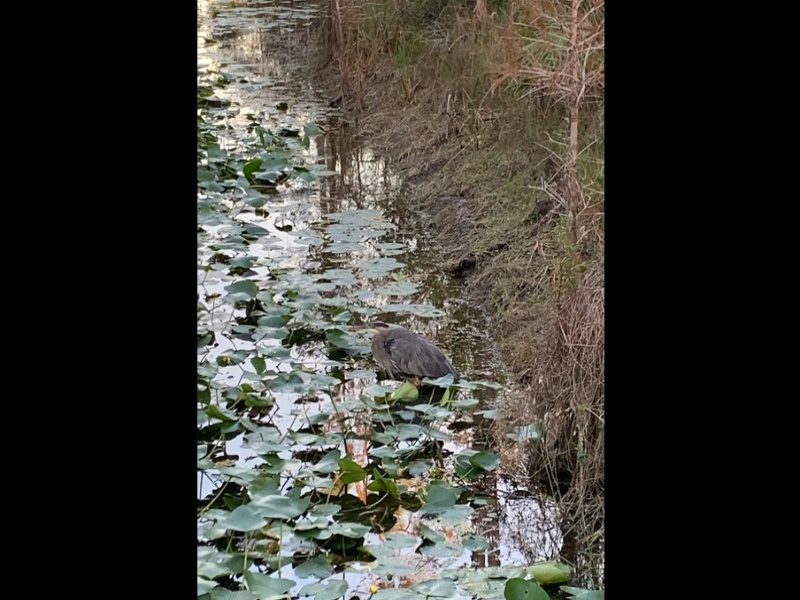heron: (370, 328, 459, 393)
